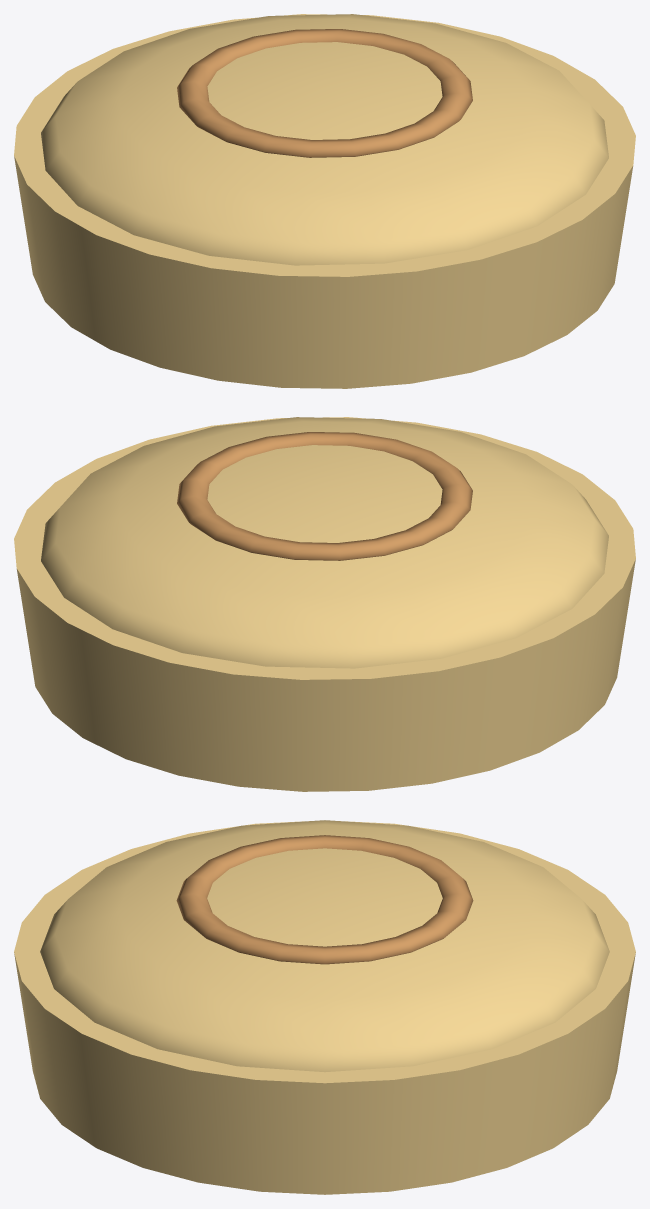
The model's file is mooncake.glb.
3 renders of one model, top to bottom at view 1: azimuth 30°, elevation 25°; view 2: azimuth 150°, elevation 25°; view 3: azimuth 270°, elevation 25°, orthographic.
Size of the model in its own units: 1.32 by 0.42 by 1.32.
